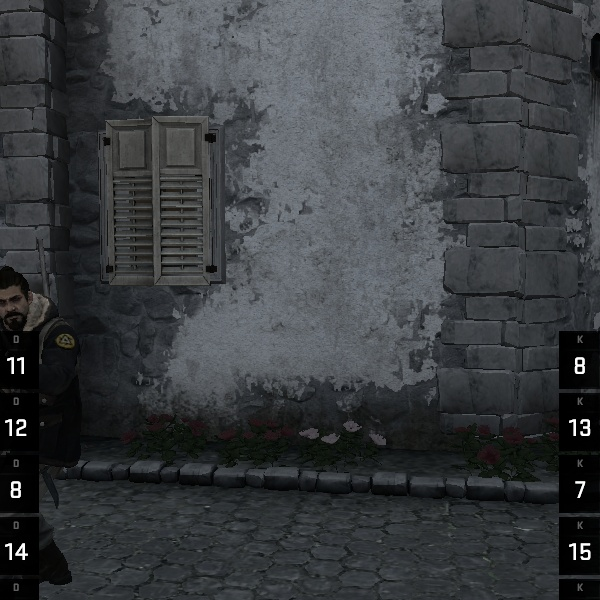ct_body: (0, 227, 131, 598)
ct_head: (1, 263, 43, 335)
